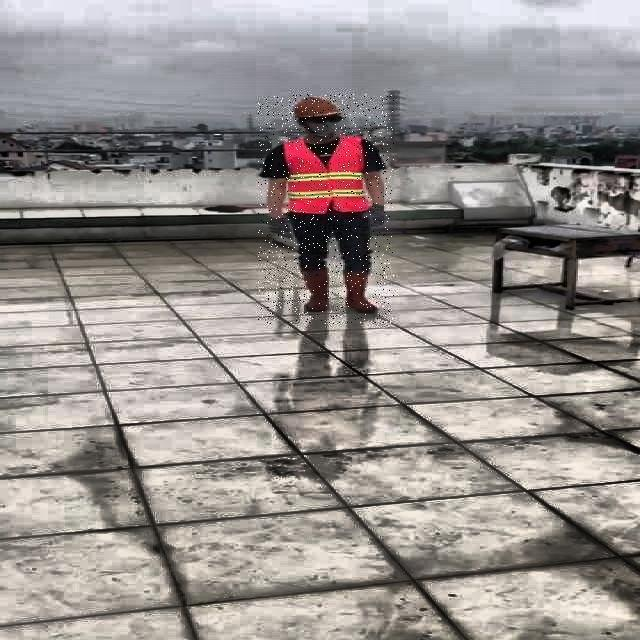safety_helmet: (290, 94, 344, 118)
safety_jacket: (282, 137, 370, 213)
